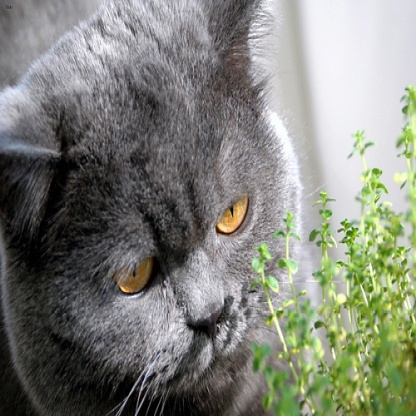british_shorthair: (1, 1, 319, 414)
